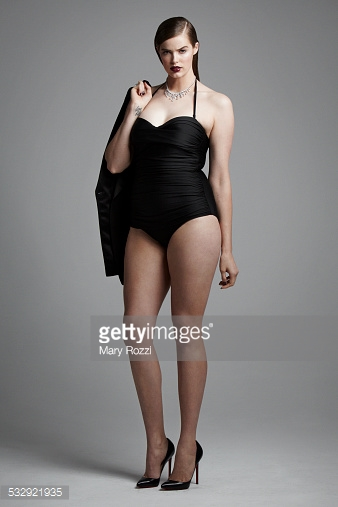em pe: (90, 3, 246, 502)
